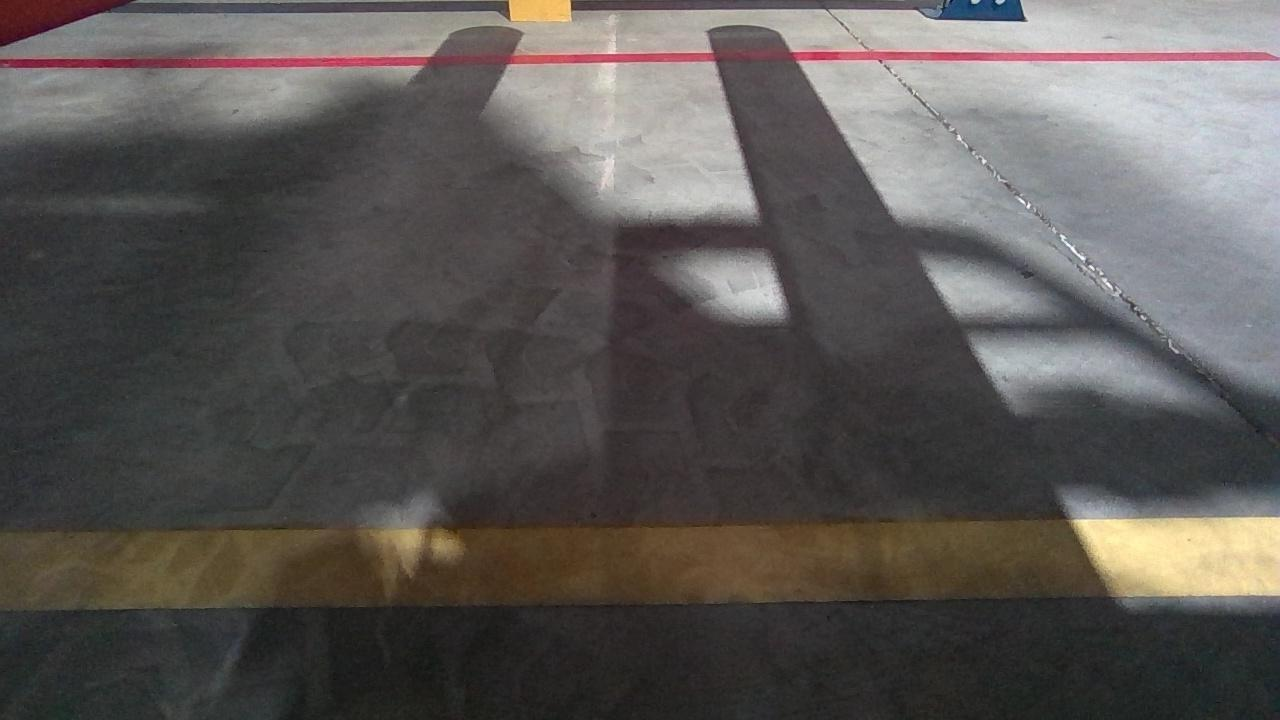red_line: (0, 50, 1280, 65)
yellow_line: (0, 514, 1280, 602)
